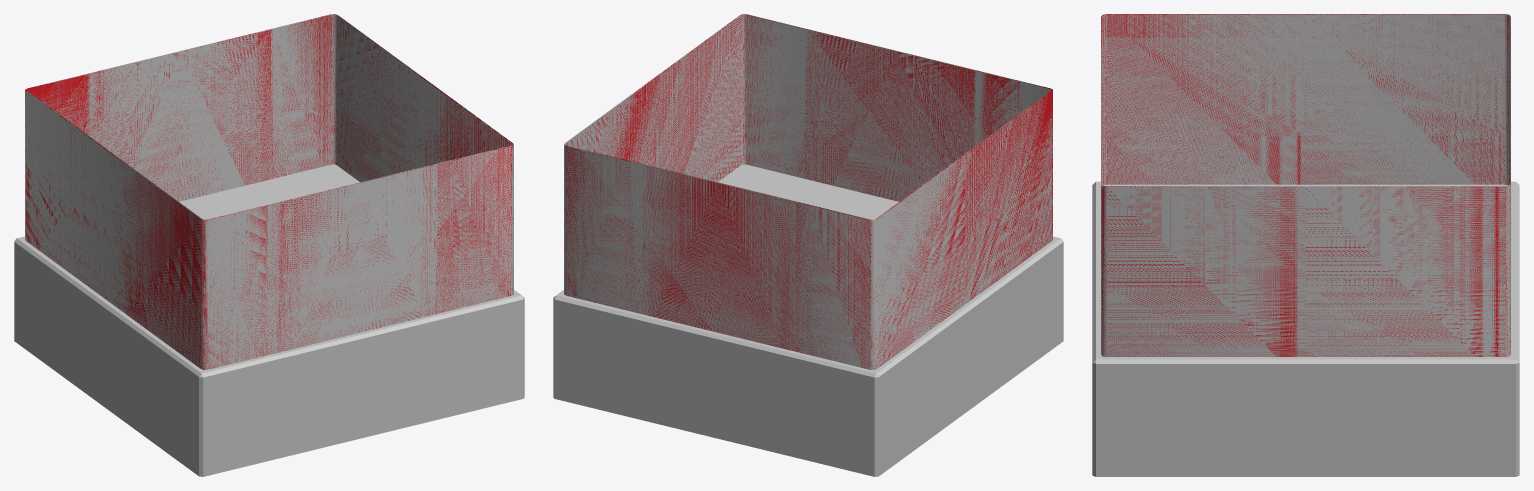
Rendered from bin.dae.
The picture shows the model from 3 angles, left to right: view 1: azimuth 30°, elevation 25°; view 2: azimuth 150°, elevation 25°; view 3: azimuth 270°, elevation 25°; orthographic projection. The views are drawn at different scales.
Visible parts, largest first — view 1: Bin.001, Bin; view 2: Bin.001, Bin; view 3: Bin.001, Bin.
Part boxes in pixels (bbox=[...]): Bin.001: bbox=[14, 14, 524, 476]; Bin: bbox=[25, 14, 513, 370]; Bin.001: bbox=[553, 14, 1063, 476]; Bin: bbox=[564, 14, 1052, 369]; Bin.001: bbox=[1092, 14, 1519, 476]; Bin: bbox=[1101, 14, 1510, 356].
Bounding box in the file's own units: 0.6684 × 0.6684 × 0.4939.
